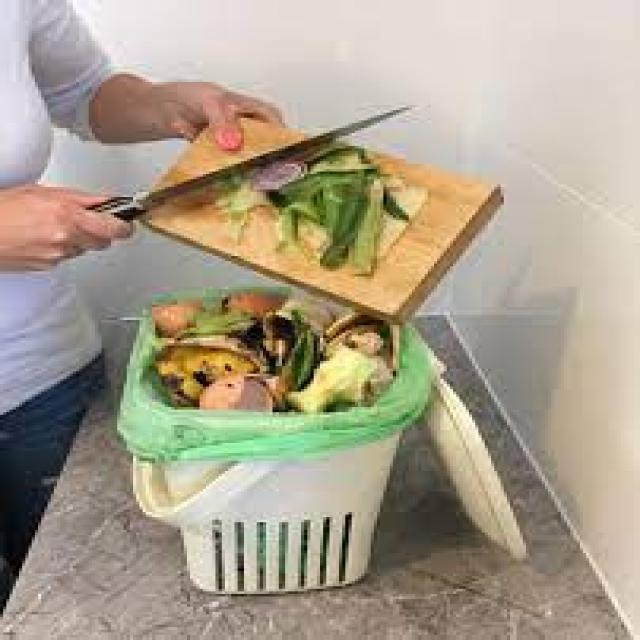Garbage: (175, 142, 427, 274), (152, 290, 398, 412)
